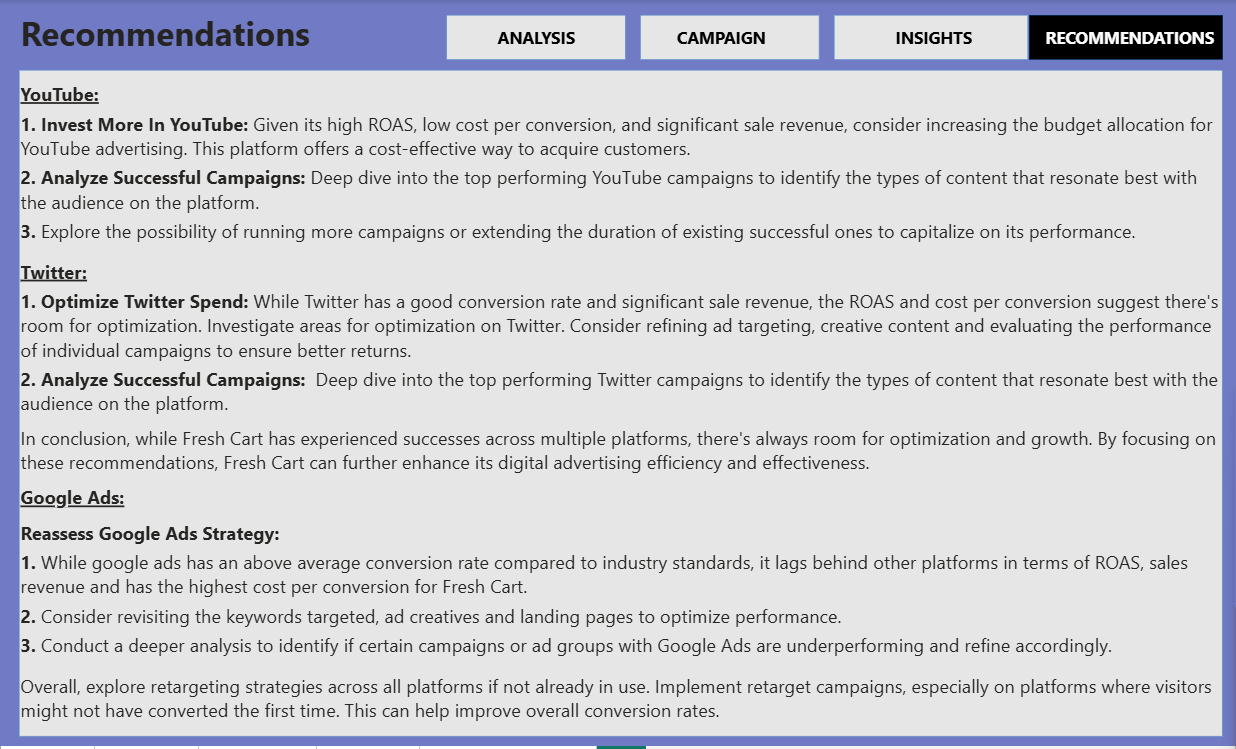

This screenshot's page, from the dashboard's own definition file:
{"tool":"powerbi","page":{"name":"Recommendations","canvas":[4000,2400],"ordinal":4},"visuals":[{"type":"shape","box":[1440,48,576,144],"z":0},{"type":"shape","box":[64,224,3872,2144],"z":1000},{"type":"textbox","box":[64,0,992,224],"z":2000},{"type":"textbox","box":[1568,64,320,128],"z":3000},{"type":"shape","box":[2064,48,576,144],"z":4000},{"type":"shape","box":[2688,48,624,144],"z":5000},{"type":"shape","box":[3312,48,624,144],"z":6000},{"type":"textbox","box":[2176,64,384,128],"z":7000},{"type":"textbox","box":[2880,64,288,128],"z":8000},{"type":"textbox","box":[3360,64,576,128],"z":9000},{"type":"textbox","box":[64,224,3872,2176],"z":10000},{"type":"textbox","box":[64,256,3872,2112],"z":12000}]}

Visuals, with their boxes in screenshot pixels (x1, y1, x2, y2), scaled from the page's 4000x2400 canvas onto the 1236x749 screenshot:
shape: box(445, 15, 623, 60)
shape: box(20, 70, 1216, 739)
textbox: box(20, 0, 326, 70)
textbox: box(485, 20, 583, 60)
shape: box(638, 15, 816, 60)
shape: box(831, 15, 1023, 60)
shape: box(1023, 15, 1216, 60)
textbox: box(672, 20, 791, 60)
textbox: box(890, 20, 979, 60)
textbox: box(1038, 20, 1216, 60)
textbox: box(20, 70, 1216, 748)
textbox: box(20, 80, 1216, 739)
